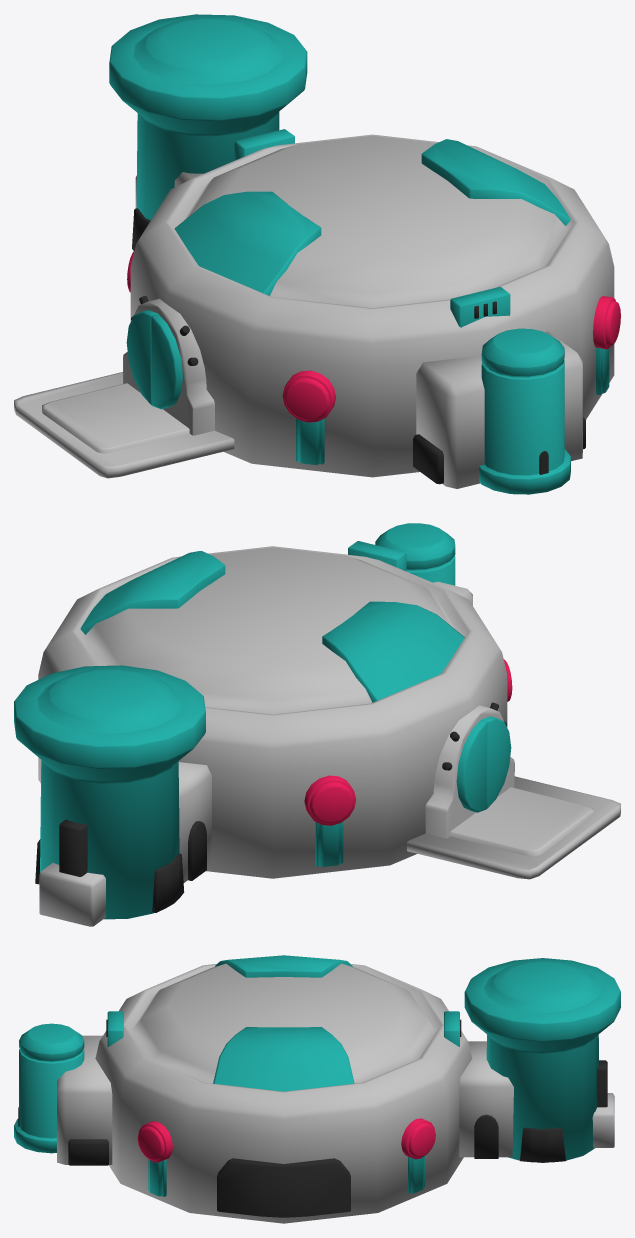
3 views of the same model, one above another, from view 1: azimuth 30°, elevation 25°; view 2: azimuth 150°, elevation 25°; view 3: azimuth 270°, elevation 25° (orthographic). The views are drawn at different scales.
Visible parts, largest first — view 1: Main_house_2lv.004; view 2: Main_house_2lv.004; view 3: Main_house_2lv.004.
Part boxes in pixels (x1,y1,x2,y2): Main_house_2lv.004: [14, 14, 620, 494]; Main_house_2lv.004: [14, 523, 620, 926]; Main_house_2lv.004: [14, 955, 620, 1223].
Size of the model in its own units: 17.48 by 6.78 by 22.28.
